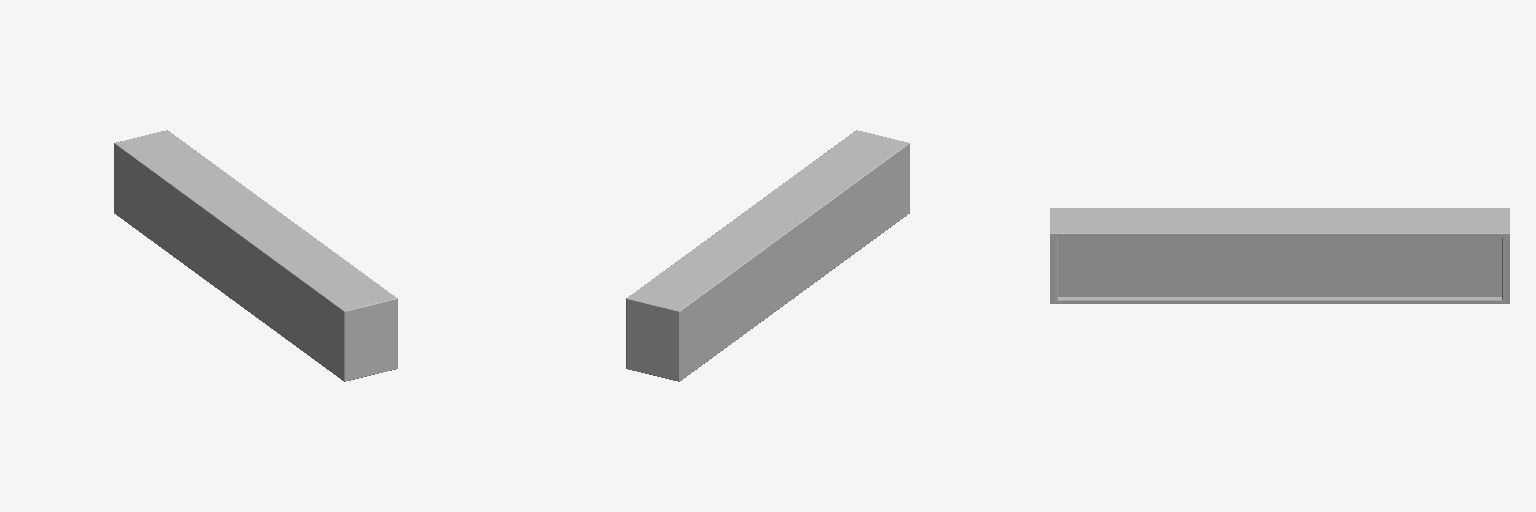
The model's file is Timer.obj.
3 renders of one model, left to right at view 1: azimuth 30°, elevation 25°; view 2: azimuth 150°, elevation 25°; view 3: azimuth 270°, elevation 25°, orthographic.
Parts seen in each view (by area): view 1: Timer; view 2: Timer; view 3: Timer.
Part boxes in pixels (bbox=[...]): Timer: bbox=[114, 130, 397, 381]; Timer: bbox=[626, 130, 909, 381]; Timer: bbox=[1050, 208, 1509, 303].
Bounding box in the file's own units: 1 × 1.26 × 7.43.